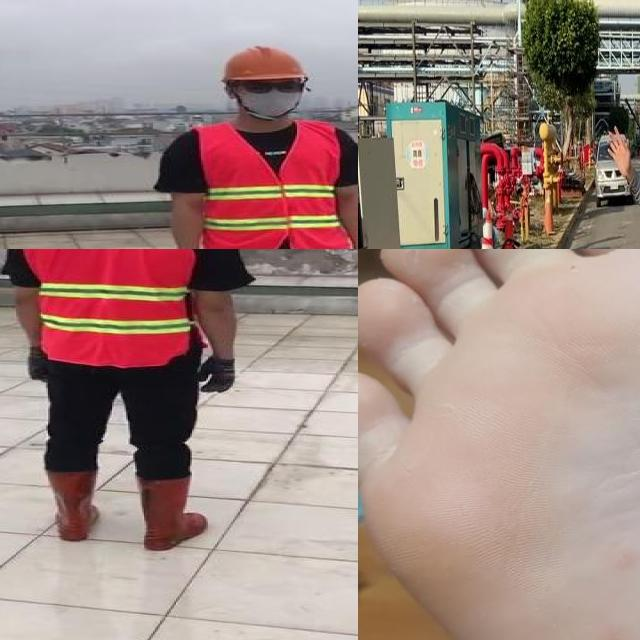Barefoots: (358, 249, 640, 640)
boots: (132, 472, 210, 548), (41, 467, 107, 542)
face_mask: (237, 79, 304, 115)
glasses: (236, 78, 308, 97)
hand_glove: (201, 357, 236, 393), (25, 348, 53, 382)
head_helmet: (222, 44, 312, 84)
person: (0, 249, 252, 559), (152, 41, 358, 249)
vest: (23, 249, 201, 365), (195, 125, 346, 249)
